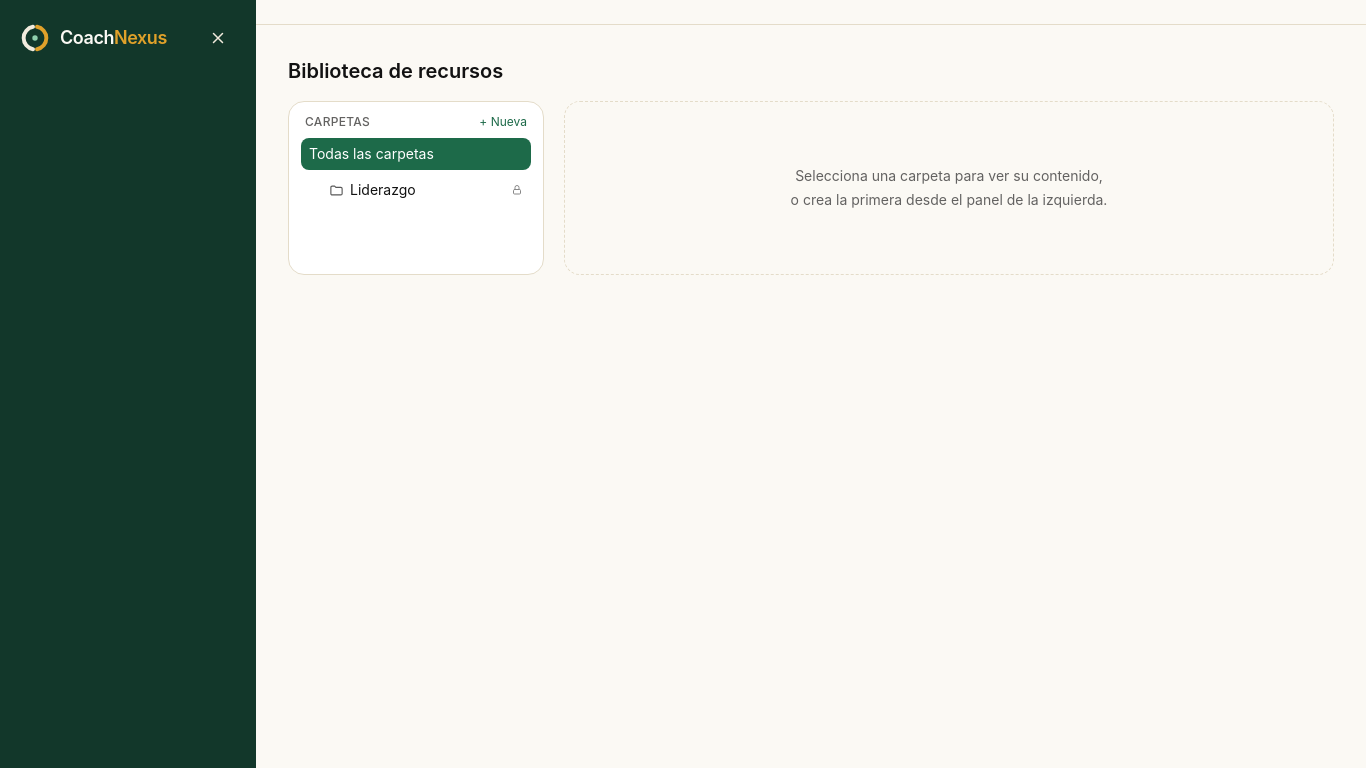
Test: RecursosView › lists the resources of the selected folder
Click the element showing "Liderazgo" at [383, 190], box left=329, top=181, right=523, bottom=198
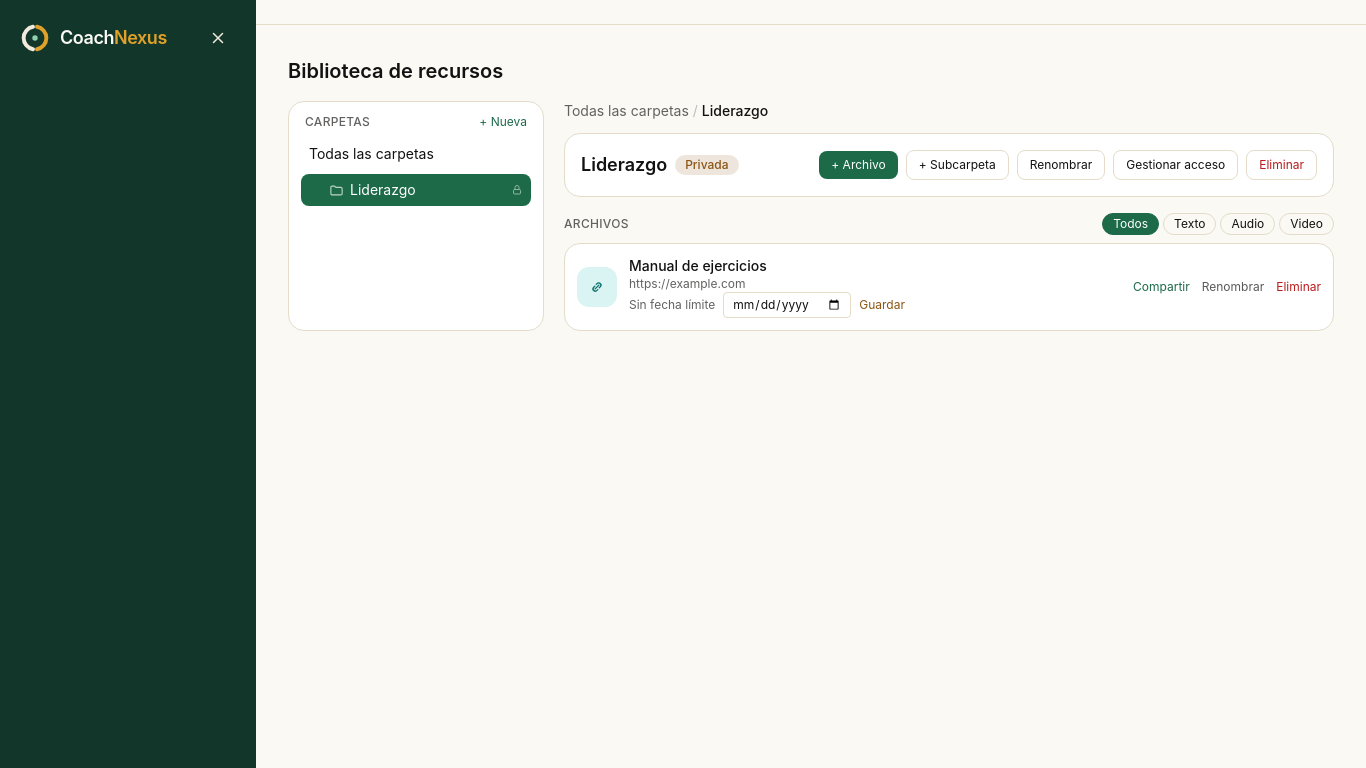
Expected: the text "Manual de ejercicios" is shown, left=629, top=257, right=767, bottom=274
